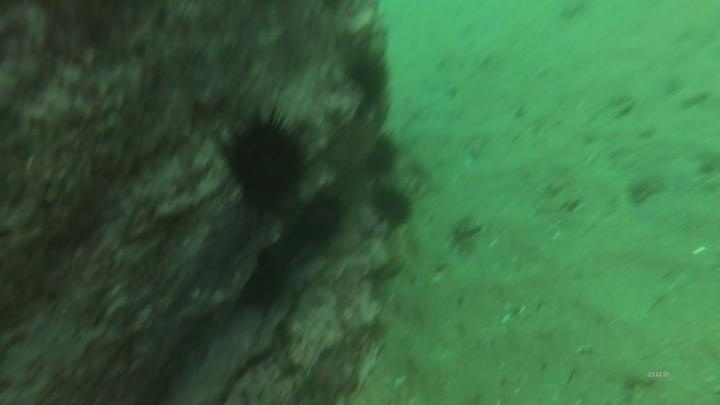echinus: (220, 109, 311, 212), (289, 188, 349, 253), (237, 251, 292, 314), (343, 50, 392, 104), (369, 181, 416, 231), (361, 132, 401, 179)
starfish: (299, 348, 353, 404)
